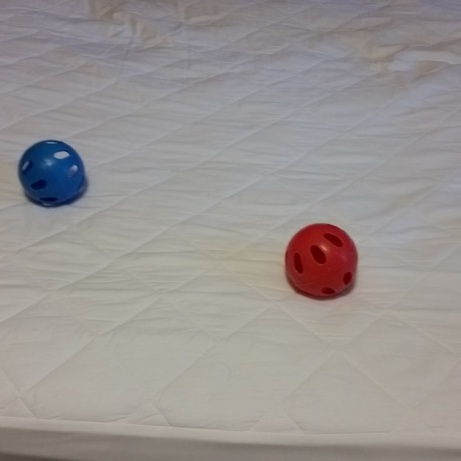ball: (281, 218, 361, 302), (14, 136, 88, 208)
